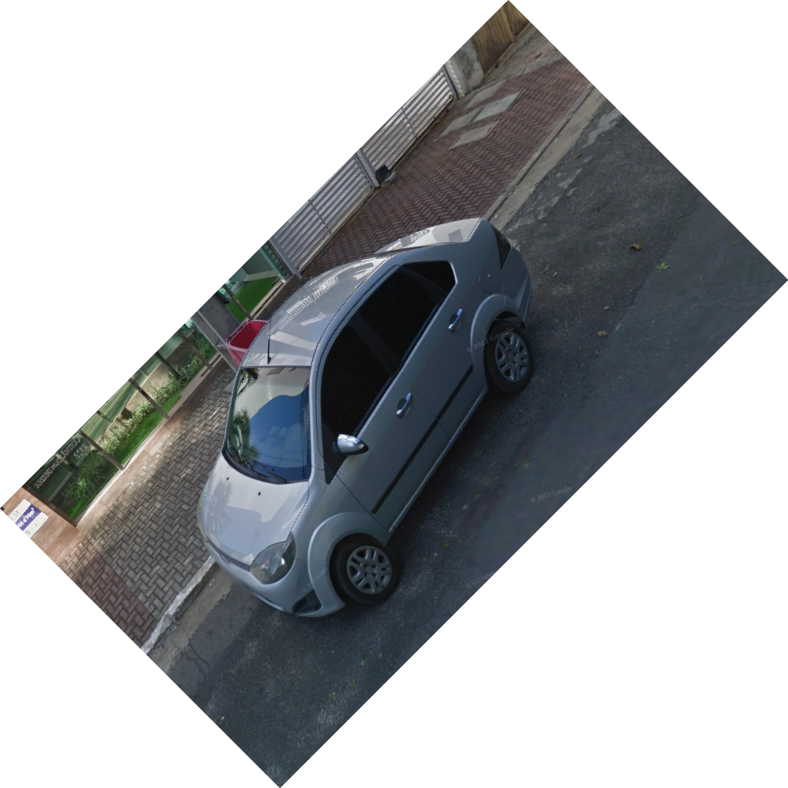car: (191, 214, 546, 633)
